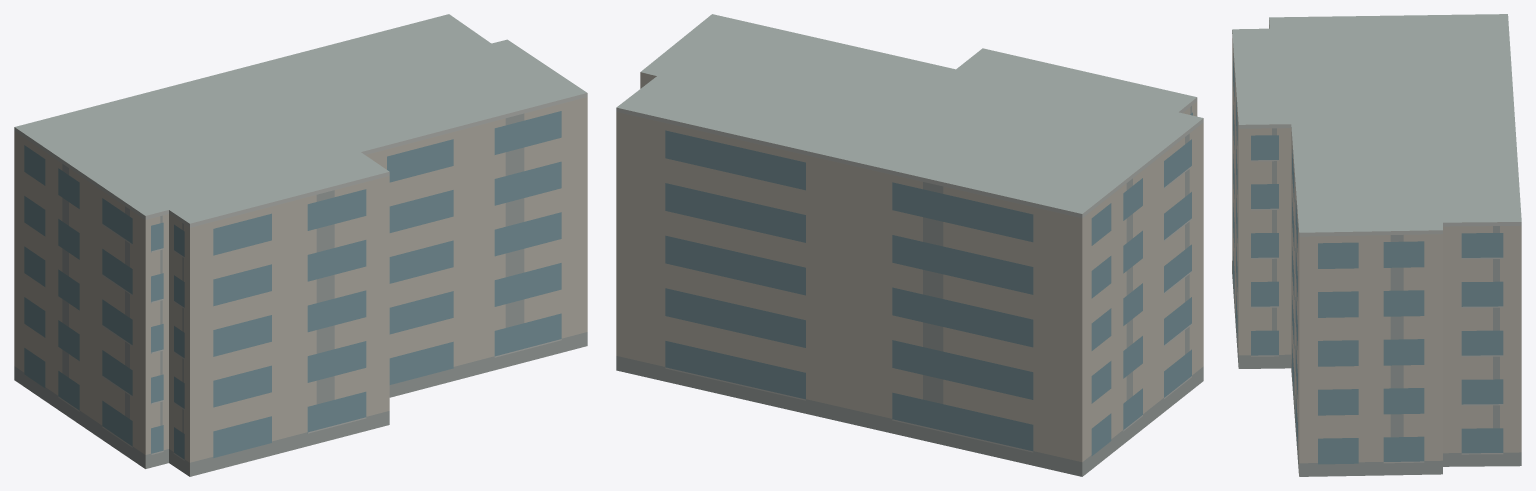
File: survey-upis-32864762.glb
3 renders of one model, left to right at view 1: azimuth 30°, elevation 25°; view 2: azimuth 150°, elevation 25°; view 3: azimuth 270°, elevation 25°, orthographic. The views are drawn at different scales.
Parts seen in each view (by area): view 1: survey-upis-32864762.tmp; view 2: survey-upis-32864762.tmp; view 3: survey-upis-32864762.tmp.
Part boxes in pixels (<box>): survey-upis-32864762.tmp: <box>14,14,587,476</box>; survey-upis-32864762.tmp: <box>616,14,1203,476</box>; survey-upis-32864762.tmp: <box>1232,14,1521,476</box>.
Size of the model in its own units: 29.31 by 15.25 by 16.4.
